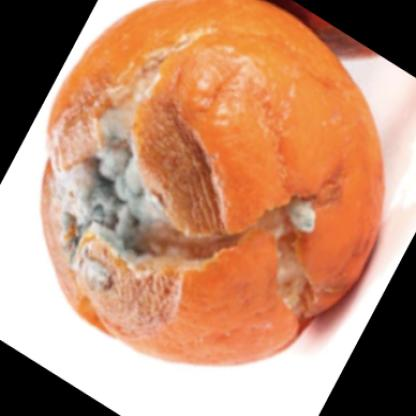rotten: (44, 1, 386, 369)
